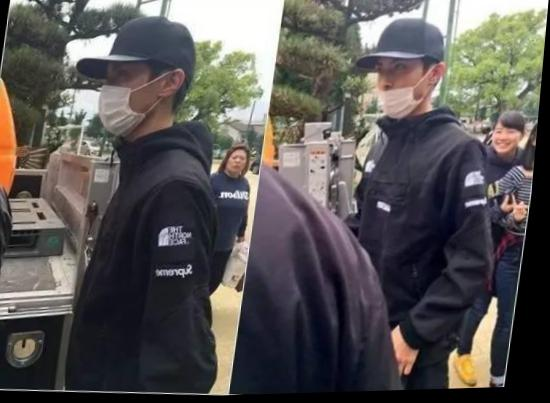NONE: (493, 127, 523, 157), (232, 154, 254, 174)
OK: (96, 62, 183, 139)
WRONG: (374, 53, 449, 125)
